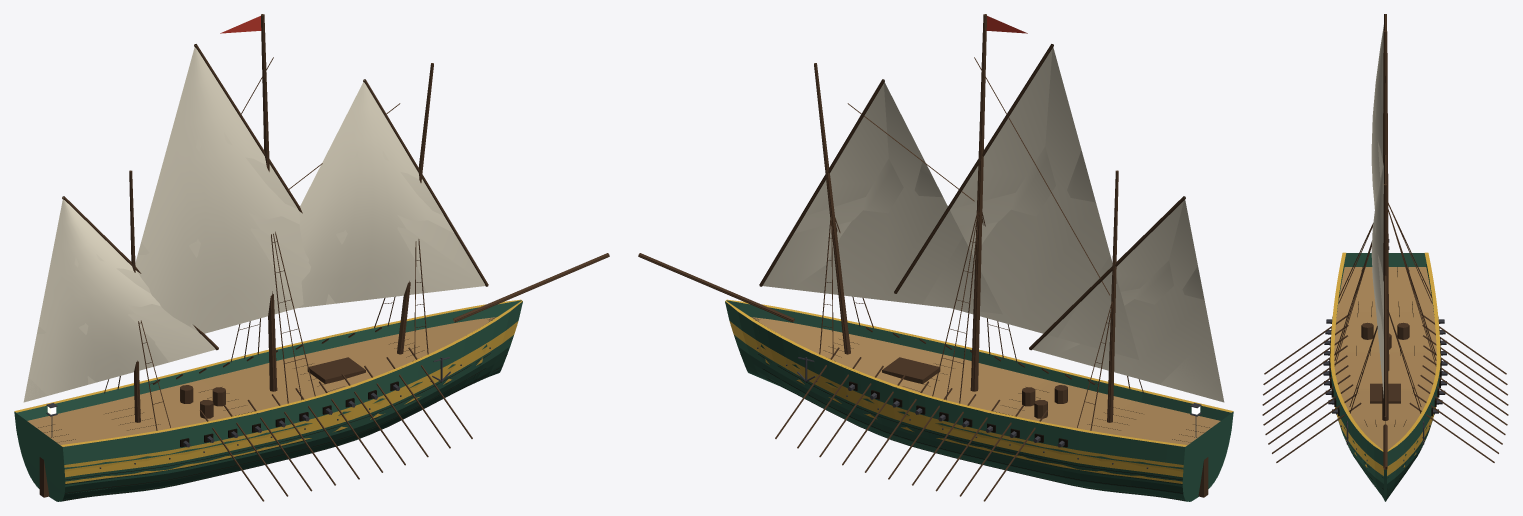
The model's file is xebec.glb.
3 renders of one model, left to right at view 1: azimuth 30°, elevation 25°; view 2: azimuth 150°, elevation 25°; view 3: azimuth 270°, elevation 25°, orthographic. The views are drawn at different scales.
Visible parts, largest first — view 1: LOD0_Body, LOD0_m1_AftSail, LOD0_m0_AftSail, LOD2_Body, LOD0_m2_AftSail, LOD1_Body, LOD1_m0_AftSail, LOD1_m1_AftSail, LOD1_m2_AftSail, LOD2_m0_AftSail, LOD2_m1_AftSail, LOD2_m2_AftSail; view 2: LOD0_Body, LOD2_m1_AftSail, LOD2_Body, LOD2_m0_AftSail, LOD2_m2_AftSail, LOD1_m1_AftSail, LOD1_Body, LOD1_m0_AftSail, LOD0_m0_AftSail, LOD1_m2_AftSail, LOD0_m1_AftSail, LOD0_m2_AftSail; view 3: LOD0_Body, LOD2_Body, LOD1_Body, LOD0_m0_AftSail, LOD0_m1_AftSail, LOD2_m0_AftSail.
Part boxes in pixels (x1,y1,x2,y2): LOD0_Body: (14,14,609,501); LOD0_m1_AftSail: (135,44,302,333); LOD0_m0_AftSail: (298,79,488,307); LOD2_Body: (15,300,522,493); LOD0_m2_AftSail: (23,196,218,402); LOD1_Body: (17,15,609,501); LOD1_m0_AftSail: (326,150,485,304); LOD1_m1_AftSail: (137,132,310,330); LOD1_m2_AftSail: (24,254,215,401); LOD2_m0_AftSail: (397,215,484,283); LOD2_m1_AftSail: (249,213,308,262); LOD2_m2_AftSail: (24,304,213,401); LOD0_Body: (638,14,1233,501); LOD2_m1_AftSail: (950,45,1138,359); LOD2_Body: (725,300,1232,494); LOD2_m0_AftSail: (791,80,962,304); LOD2_m2_AftSail: (1055,197,1223,400); LOD1_m1_AftSail: (950,146,1137,359); LOD1_Body: (638,15,1230,501); LOD1_m0_AftSail: (794,158,1001,314); LOD0_m0_AftSail: (759,79,1002,314); LOD1_m2_AftSail: (1120,260,1222,401); LOD0_m1_AftSail: (894,44,1138,359); LOD0_m2_AftSail: (1029,196,1224,402); LOD0_Body: (1262,30,1508,501); LOD2_Body: (1333,253,1437,490); LOD1_Body: (1331,31,1439,501); LOD0_m0_AftSail: (1371,155,1386,416); LOD0_m1_AftSail: (1371,14,1386,208); LOD2_m0_AftSail: (1374,289,1383,396).
Bounding box in the file's own units: 38.85 × 27.78 × 16.
Materials: 2 (1 with a texture image).
